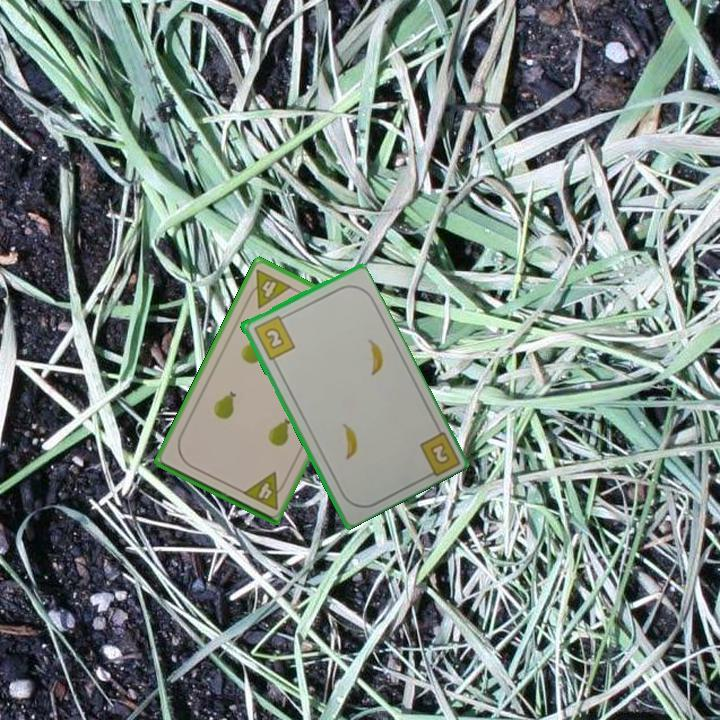2b: (250, 311, 298, 363), (426, 439, 453, 467)
4p: (242, 265, 295, 311), (239, 468, 290, 512)
